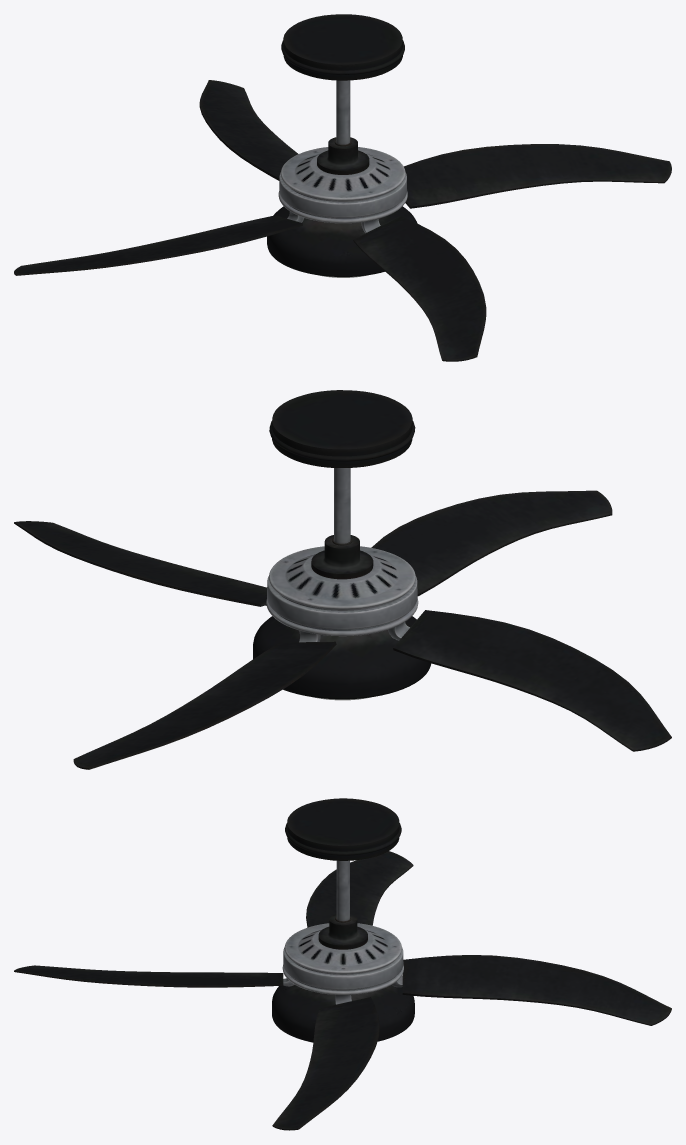
The model's file is ceiling_fan.glb.
3 views of the same model, one above another, from view 1: azimuth 30°, elevation 25°; view 2: azimuth 150°, elevation 25°; view 3: azimuth 270°, elevation 25° (orthographic). The views are drawn at different scales.
Visible parts, largest first — view 1: ceiling_fan_blades, ceiling_fan; view 2: ceiling_fan_blades, ceiling_fan; view 3: ceiling_fan_blades, ceiling_fan.
Part boxes in pixels (x1,y1,x2,y2): ceiling_fan_blades: (14, 80, 671, 361); ceiling_fan: (267, 14, 417, 277); ceiling_fan_blades: (14, 490, 671, 769); ceiling_fan: (253, 390, 431, 700); ceiling_fan_blades: (14, 851, 671, 1130); ceiling_fan: (272, 798, 414, 1042).
Size of the model in its own units: 1.46 by 0.5163 by 1.46.
Materials: 1 (1 with a texture image).
